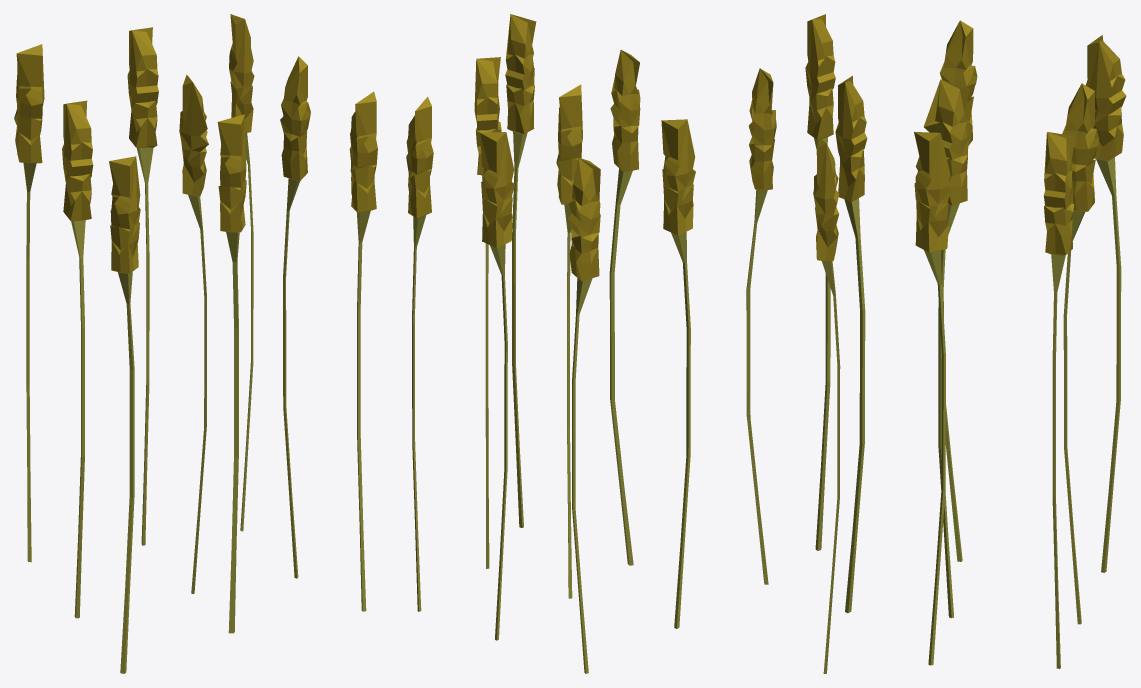
The model's file is Wheat2Rotated2.glb.
3 views of the same model, side by side, from view 1: azimuth 30°, elevation 25°; view 2: azimuth 150°, elevation 25°; view 3: azimuth 270°, elevation 25° (orthographic). The views are drawn at different scales.
Visible parts, largest first — view 1: Wheat.006; view 2: Wheat.006; view 3: Wheat.006.
Boxes of the visible parts, box(x1,y1,x2,y2) form: Wheat.006: box(14, 14, 377, 673); Wheat.006: box(406, 14, 776, 673); Wheat.006: box(805, 14, 1126, 673).
Bounding box in the file's own units: 0.7682 × 1.42 × 0.7725.
